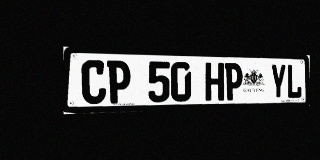0: (171, 62, 191, 102)
5: (149, 61, 170, 102)
C: (81, 60, 106, 104)
H: (205, 62, 224, 101)
L: (287, 64, 302, 99)
P: (107, 60, 130, 104), (225, 63, 243, 100)
Y: (270, 64, 286, 99)
